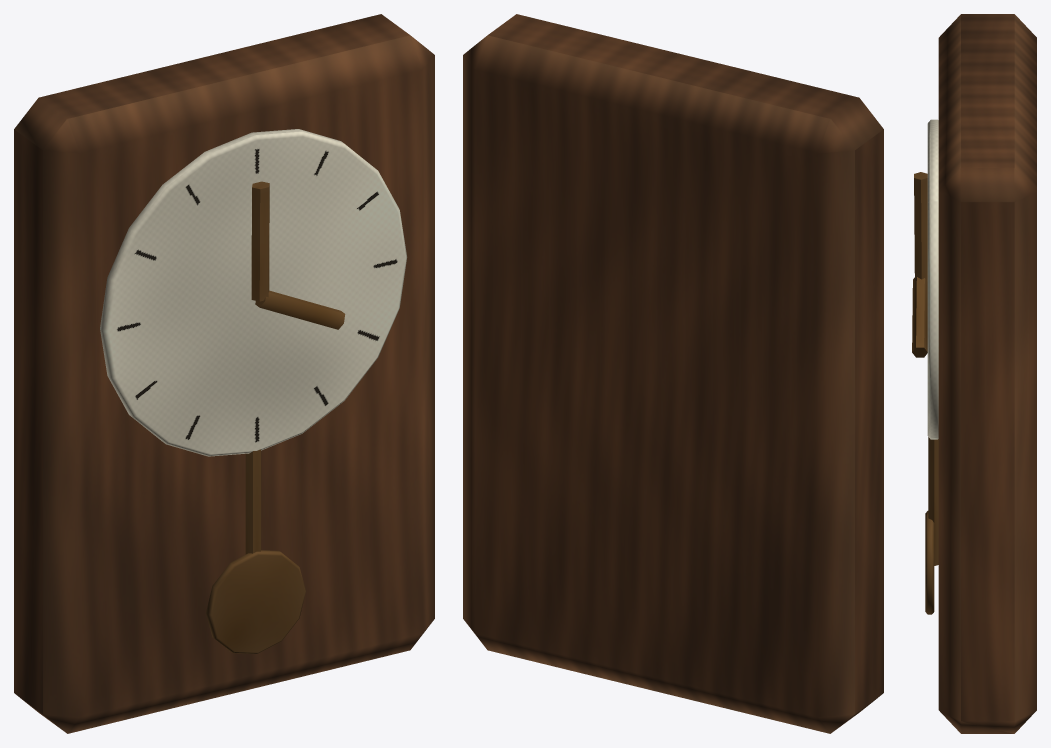
The model's file is Furn_Wall_Clock.fbx.
3 views of the same model, side by side, from view 1: azimuth 30°, elevation 25°; view 2: azimuth 150°, elevation 25°; view 3: azimuth 270°, elevation 25° (orthographic). The views are drawn at different scales.
Parts seen in each view (by area): view 1: Furn_Wall_Clock; view 2: Furn_Wall_Clock; view 3: Furn_Wall_Clock.
Part boxes in pixels (x1=…): Furn_Wall_Clock: x1=14, y1=14, x2=434, y2=733; Furn_Wall_Clock: x1=463, y1=14, x2=883, y2=733; Furn_Wall_Clock: x1=912, y1=14, x2=1036, y2=733.
Bounding box in the file's own units: 0.4 × 0.6 × 0.12.
3 materials, 3 textured.
